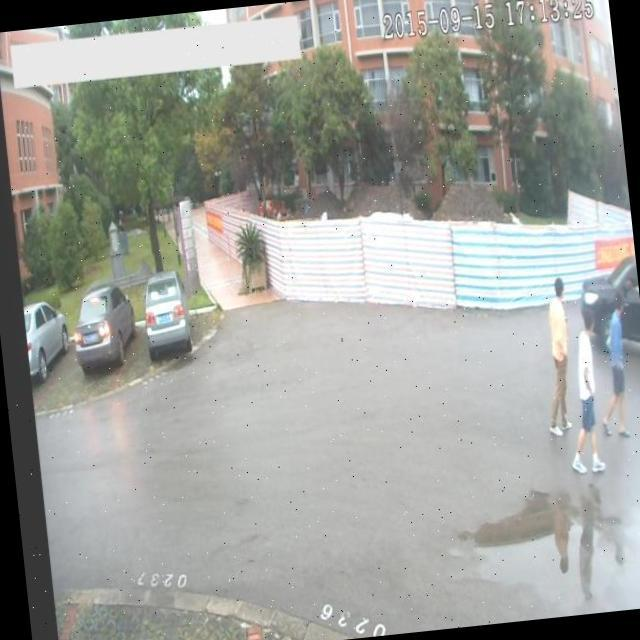person: (556, 296, 614, 480), (531, 274, 579, 436), (591, 292, 640, 443)
